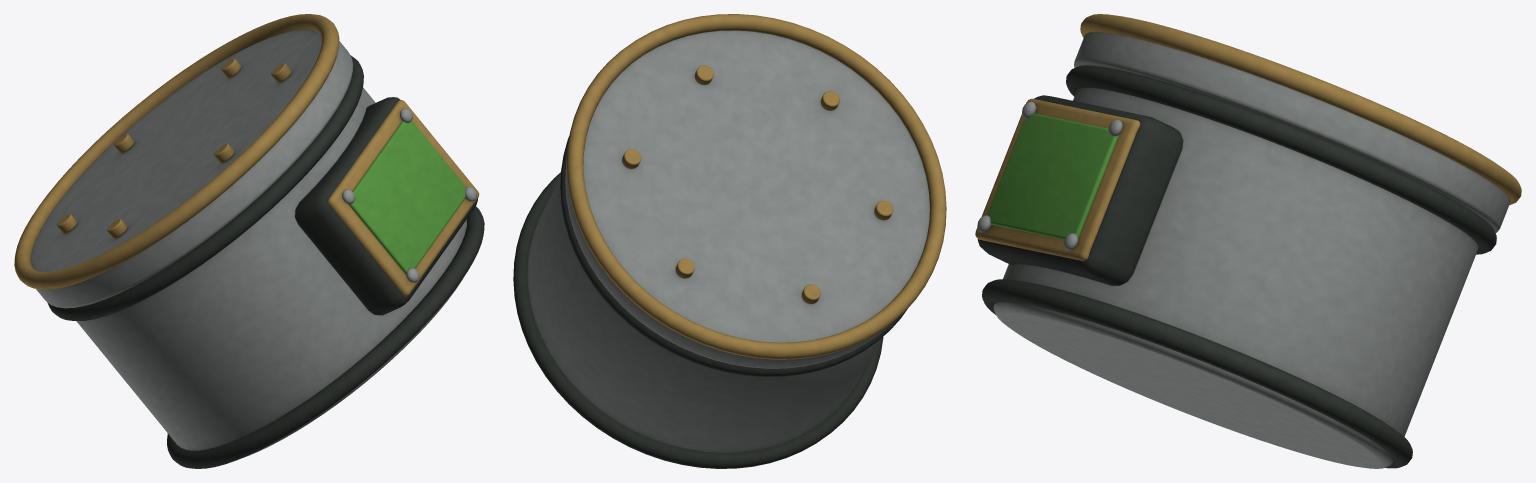
3 renders of one model, left to right at view 1: azimuth 30°, elevation 25°; view 2: azimuth 150°, elevation 25°; view 3: azimuth 270°, elevation 25°, orthographic. The views are drawn at different scales.
Parts seen in each view (by area): view 1: Closed sample vessel; view 2: Closed sample vessel; view 3: Closed sample vessel.
Part boxes in pixels (bbox=[...]): Closed sample vessel: bbox=[14, 14, 484, 468]; Closed sample vessel: bbox=[513, 14, 946, 468]; Closed sample vessel: bbox=[975, 14, 1521, 468].
Size of the model in its own units: 1.07 by 1.01 by 1.06.
Materials: 1 (1 with a texture image).
